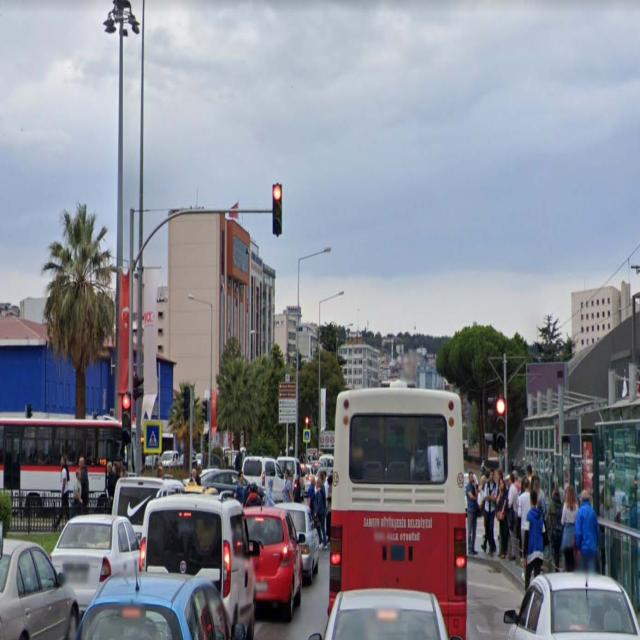kirmizi: (122, 392, 132, 445), (496, 398, 506, 450), (273, 184, 281, 234)
